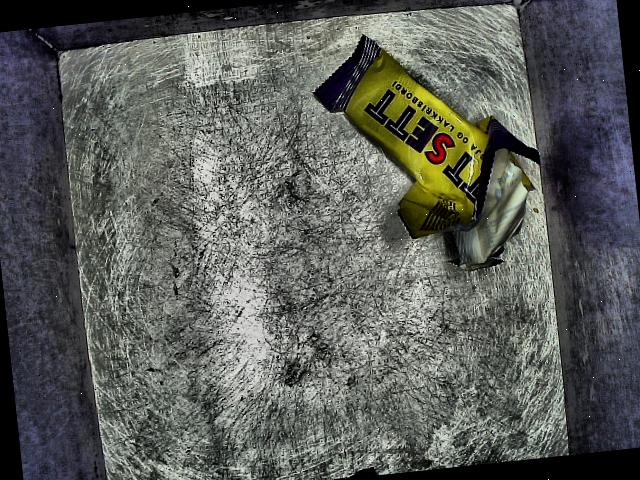Plastic: (297, 8, 548, 296)
